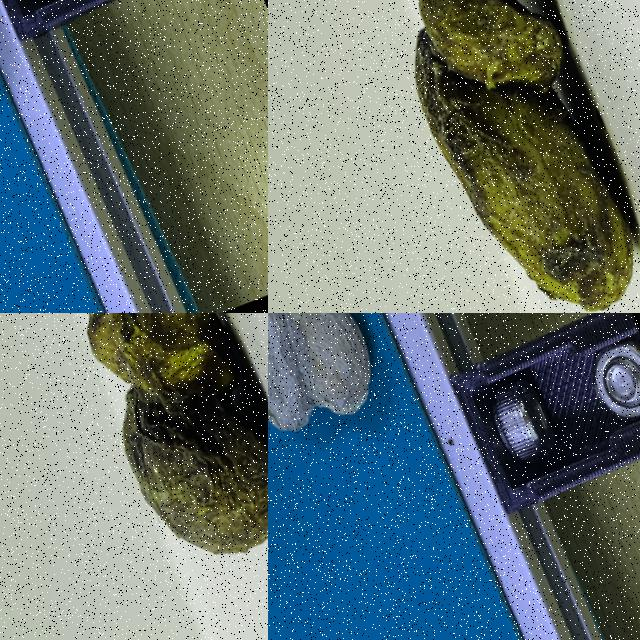Agglomerated_cocoabeans: (300, 0, 639, 312), (0, 313, 267, 639), (268, 313, 473, 567), (0, 0, 89, 248)
